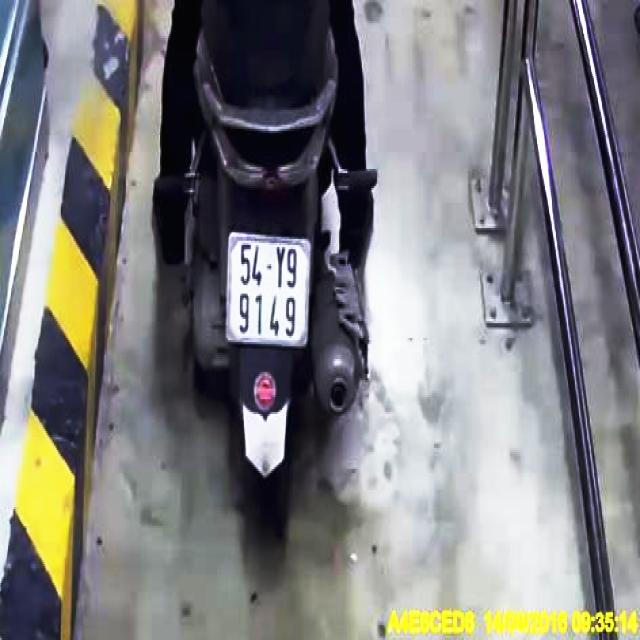license_plate: (228, 237, 314, 352)
